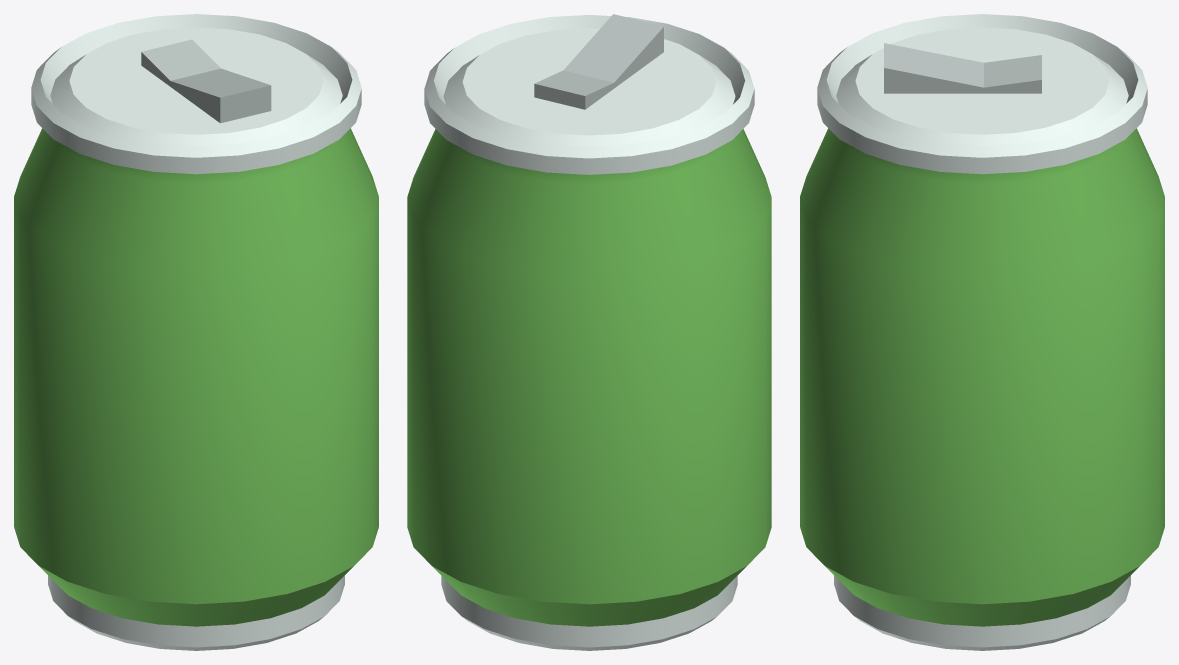
The model's file is Can_Spirte.fbx.
The picture shows the model from 3 angles, left to right: view 1: azimuth 30°, elevation 25°; view 2: azimuth 150°, elevation 25°; view 3: azimuth 270°, elevation 25°; orthographic projection.
Visible parts, largest first — view 1: Can_Spirte; view 2: Can_Spirte; view 3: Can_Spirte.
Part boxes in pixels (x1,y1,x2,y2): Can_Spirte: [14, 14, 378, 650]; Can_Spirte: [407, 14, 771, 650]; Can_Spirte: [800, 14, 1164, 650].
Bounding box in the file's own units: 126 × 204 × 126.
1 material, 1 textured.
